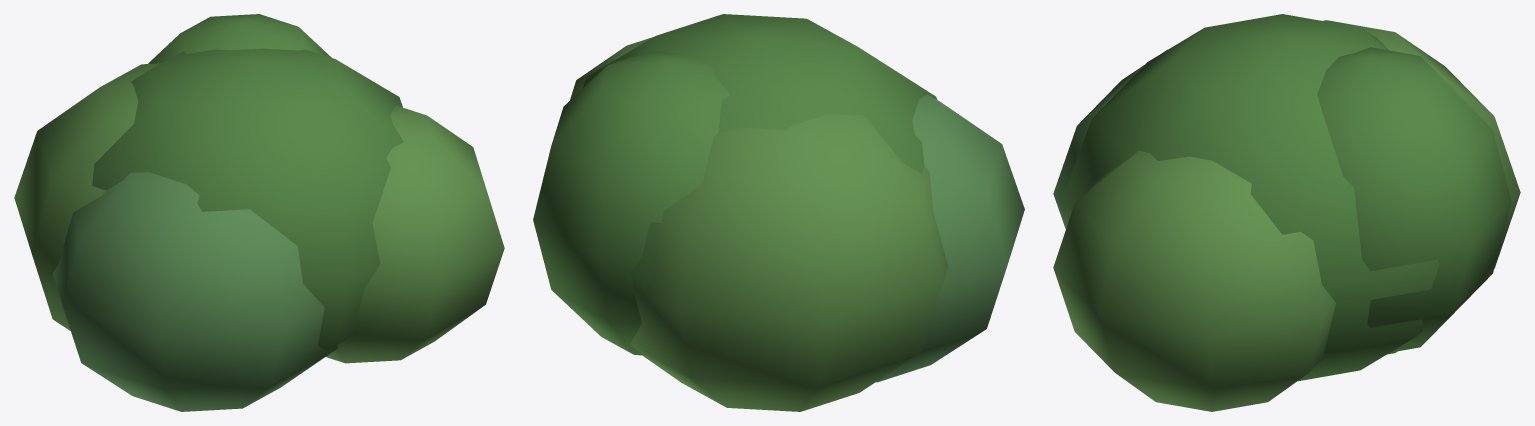
Rendered from alpine_shrub.glb.
3 renders of one model, left to right at view 1: azimuth 30°, elevation 25°; view 2: azimuth 150°, elevation 25°; view 3: azimuth 270°, elevation 25°, orthographic. The views are drawn at different scales.
Parts seen in each view (by area): view 1: AlpineShrub; view 2: AlpineShrub; view 3: AlpineShrub.
Part boxes in pixels (x1,y1,x2,y2): AlpineShrub: (14,14,504,411); AlpineShrub: (533,14,1024,411); AlpineShrub: (1053,14,1520,411).
Bounding box in the file's own units: 0.6 × 0.41 × 0.53.
